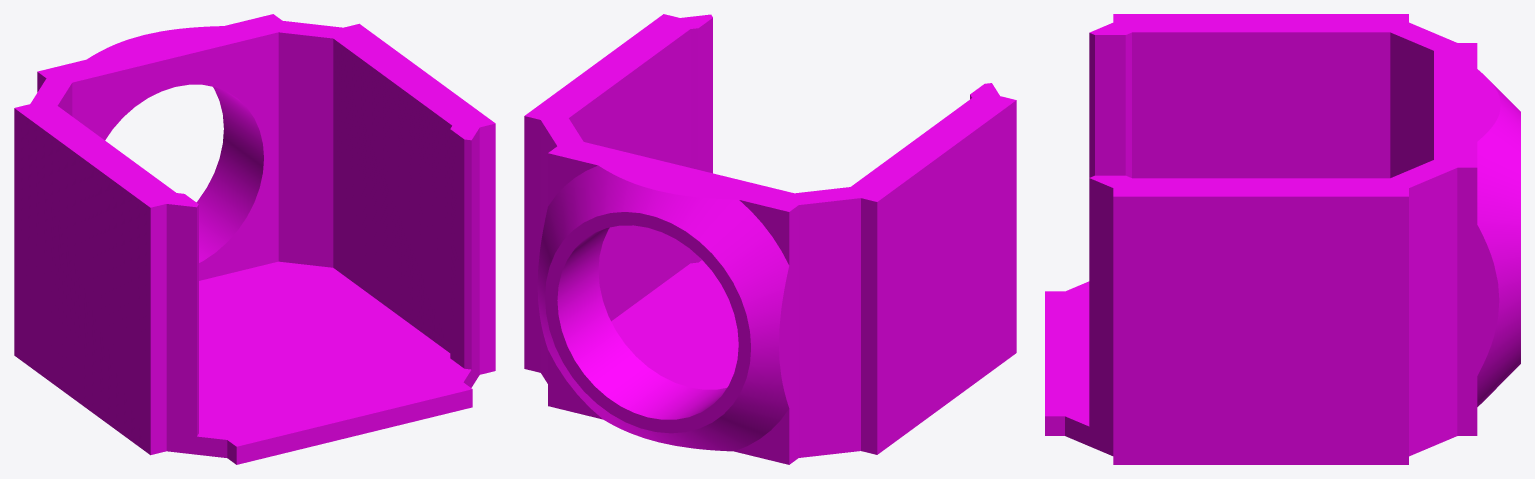
File: Cube 1x1 V5_Camera Mount Side.obj
3 renders of one model, left to right at view 1: azimuth 30°, elevation 25°; view 2: azimuth 150°, elevation 25°; view 3: azimuth 270°, elevation 25°, orthographic. The views are drawn at different scales.
Parts seen in each view (by area): view 1: Solid1:29; view 2: Solid1:29; view 3: Solid1:29.
Part boxes in pixels (x1=…): Solid1:29: x1=14, y1=14, x2=495, y2=464; Solid1:29: x1=524, y1=14, x2=1016, y2=464; Solid1:29: x1=1045, y1=14, x2=1520, y2=464.
Size of the model in its own units: 49.65 by 34 by 54.65.
